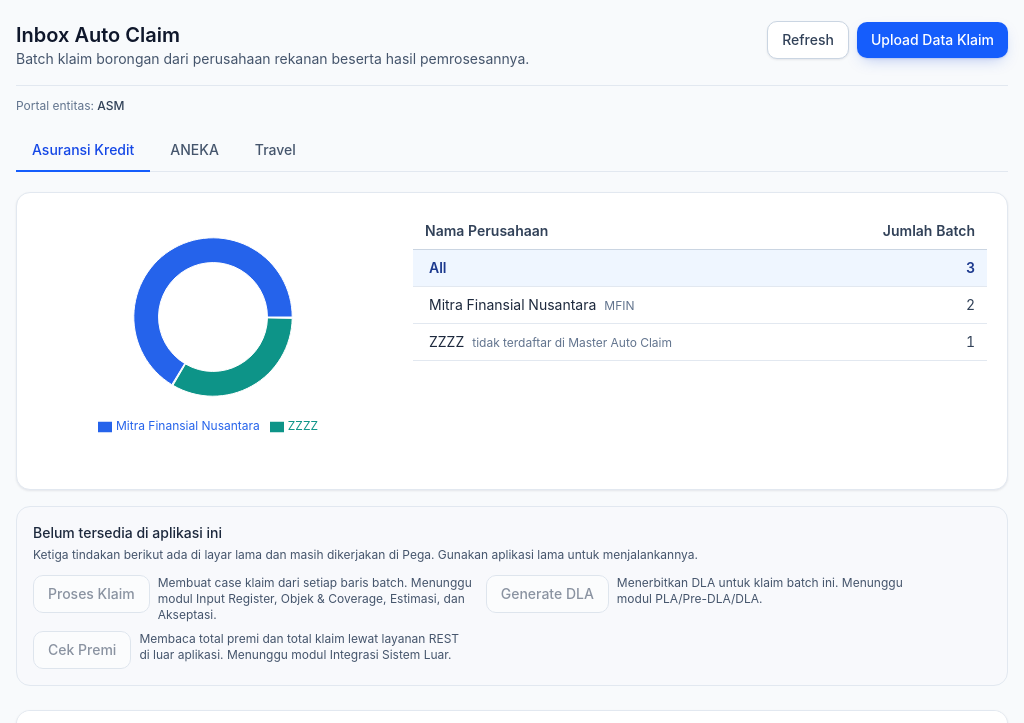
Test: unggah berkas klaim › menampilkan judul kolom yang harus ada di berkas
Click the button "Upload Data Klaim" at {"x": 932, "y": 40}, box [857, 22, 1008, 58]
(page scrolled)
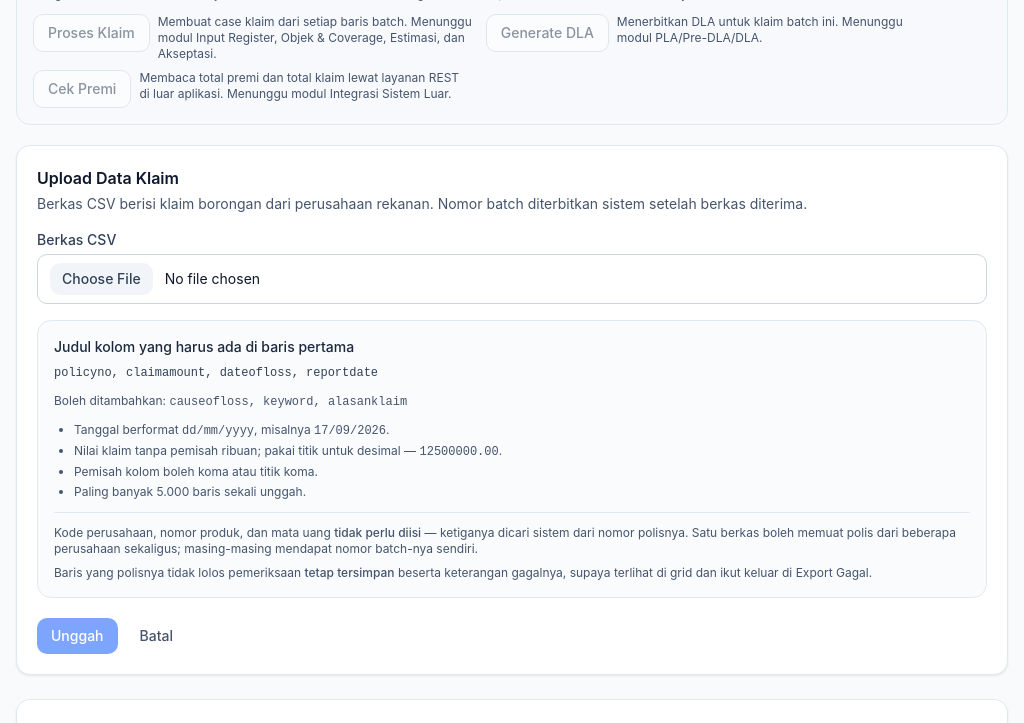
Result: the heading "Upload Data Klaim" is shown at [37, 168, 179, 188]
Result: the text "policyno, claimamount, dateofloss, reportdate" is shown at [54, 366, 378, 380]
